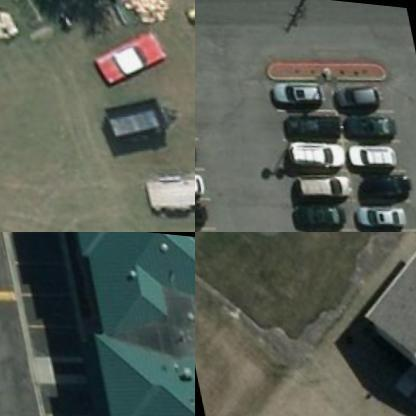car: (82, 18, 167, 90), (346, 132, 411, 170), (278, 131, 344, 168), (330, 68, 394, 106), (351, 193, 416, 230), (337, 102, 402, 139), (267, 105, 332, 142), (264, 70, 329, 107), (284, 193, 348, 230), (347, 164, 412, 200), (286, 162, 351, 198), (354, 219, 415, 231), (289, 223, 354, 231), (195, 194, 209, 230)
